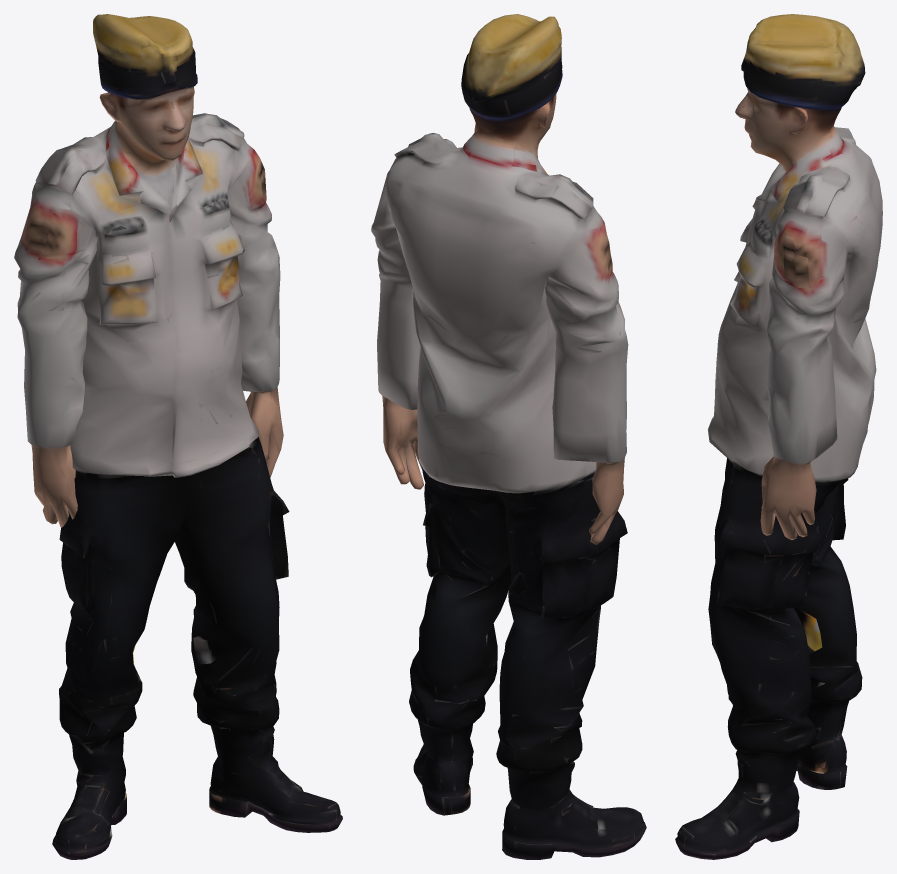
Rendered from babin_idle.glb.
The picture shows the model from 3 angles, left to right: view 1: azimuth 30°, elevation 25°; view 2: azimuth 150°, elevation 25°; view 3: azimuth 270°, elevation 25°; orthographic projection. The views are drawn at different scales.
Visible parts, largest first — view 1: tripo_node_e2816910; view 2: tripo_node_e2816910; view 3: tripo_node_e2816910.
Boxes of the visible parts, <box> form: tripo_node_e2816910: <box>14,14,342,859</box>; tripo_node_e2816910: <box>371,14,646,859</box>; tripo_node_e2816910: <box>675,14,882,859</box>.
Size of the model in its own units: 33.68 by 99.43 by 24.3.
1 material, 1 textured.
